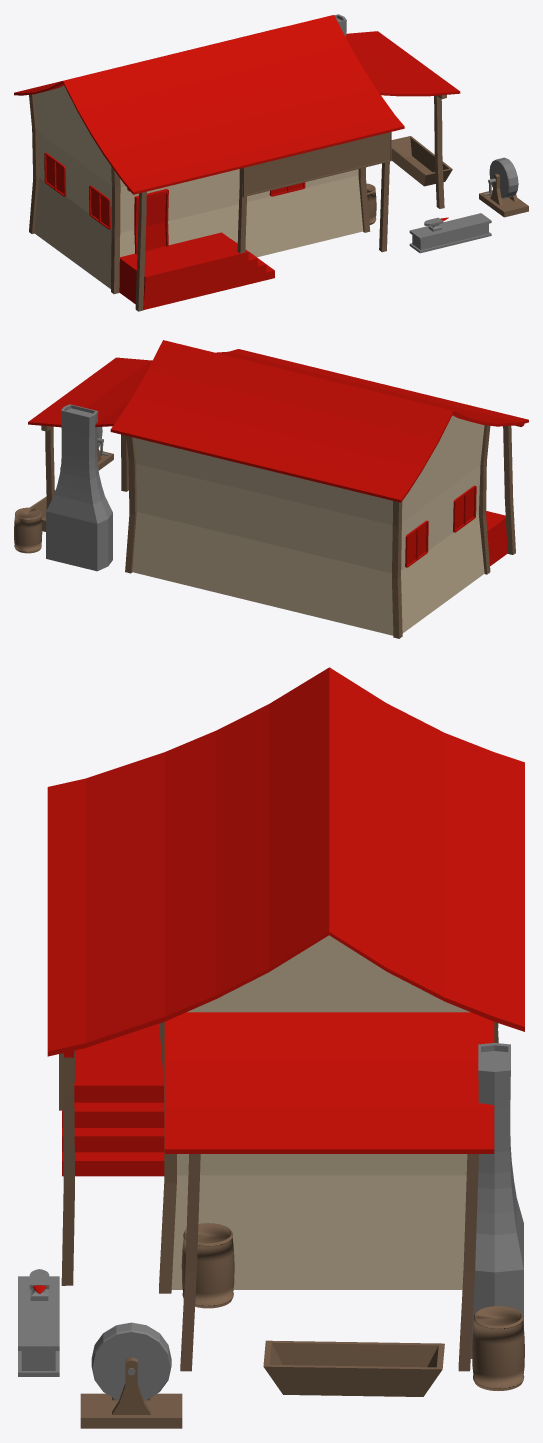
File: Ferreiro.fbx
The picture shows the model from 3 angles, top to bottom: view 1: azimuth 30°, elevation 25°; view 2: azimuth 150°, elevation 25°; view 3: azimuth 270°, elevation 25°; orthographic projection. The views are drawn at different scales.
Parts seen in each view (by area): view 1: Cubo; view 2: Cubo; view 3: Cubo.
Boxes of the visible parts, bbox=[...] form: Cubo: bbox=[14, 14, 528, 311]; Cubo: bbox=[14, 340, 528, 638]; Cubo: bbox=[18, 667, 524, 1428].
Bounding box in the file's own units: 15.74 × 6.85 × 8.56.
